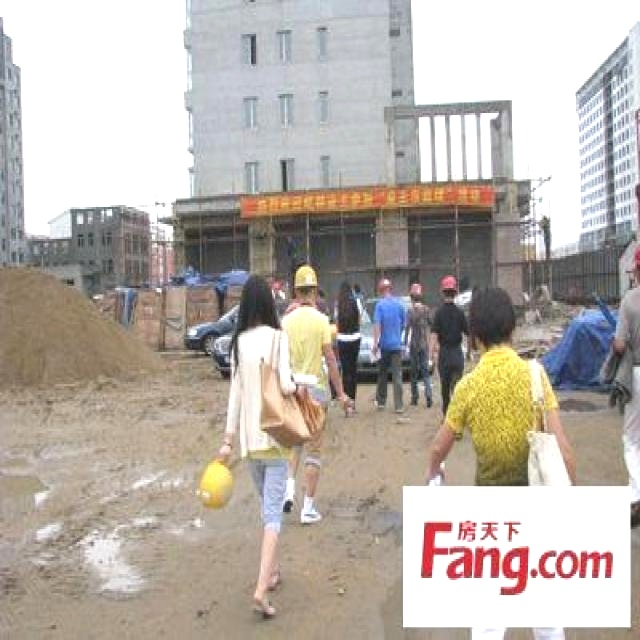Sin_Chaleco: (231, 327, 293, 456)
